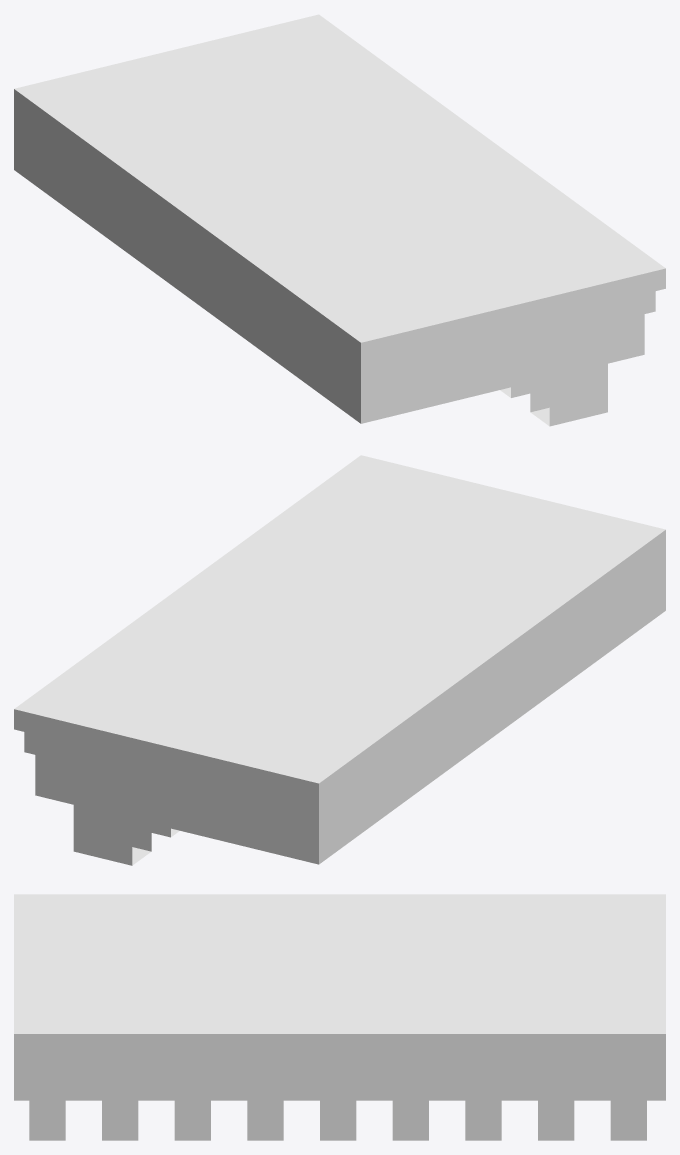
Rendered from dentil_molding_small.glb.
3 renders of one model, top to bottom at view 1: azimuth 30°, elevation 25°; view 2: azimuth 150°, elevation 25°; view 3: azimuth 270°, elevation 25°, orthographic. The views are drawn at different scales.
Parts seen in each view (by area): view 1: DentilMolding.001; view 2: DentilMolding.001; view 3: DentilMolding.001.
Part boxes in pixels (x1,y1,x2,y2): DentilMolding.001: (14, 14, 665, 426); DentilMolding.001: (14, 455, 665, 865); DentilMolding.001: (14, 894, 665, 1140).
Bounding box in the file's own units: 1.01 × 0.4377 × 2.
1 material, 1 textured.
